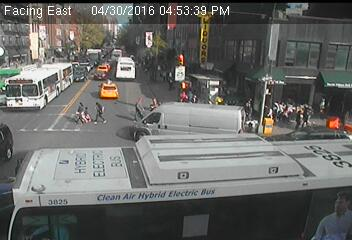neg: (163, 164, 194, 204), (8, 72, 38, 111), (37, 148, 67, 187), (35, 34, 65, 73), (108, 49, 135, 85), (244, 56, 270, 91), (190, 69, 214, 101), (188, 31, 206, 54), (317, 68, 334, 91)
pos: (130, 94, 150, 122), (68, 98, 86, 122), (289, 110, 305, 131), (93, 101, 107, 120), (302, 106, 314, 122), (82, 106, 92, 119), (149, 95, 159, 108)
